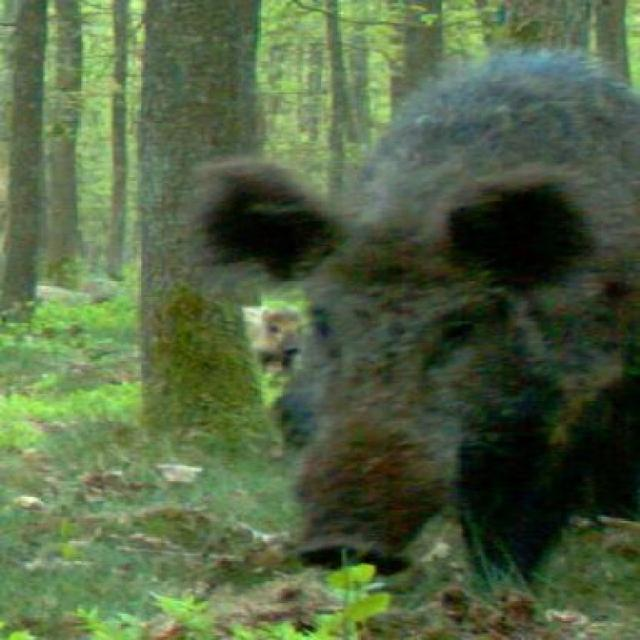Boar: (166, 17, 639, 600)
